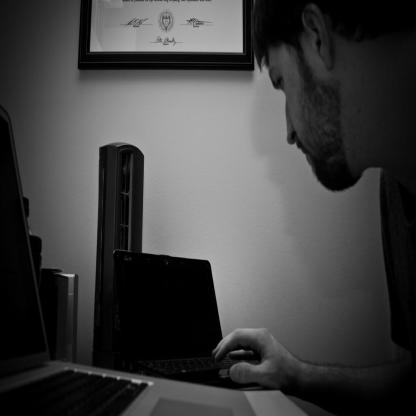board: (0, 105, 161, 415), (100, 216, 243, 387)
